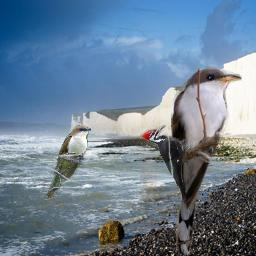Cuckoo: (169, 66, 242, 254), (44, 124, 91, 200)
Woodpecker: (140, 125, 193, 203)
